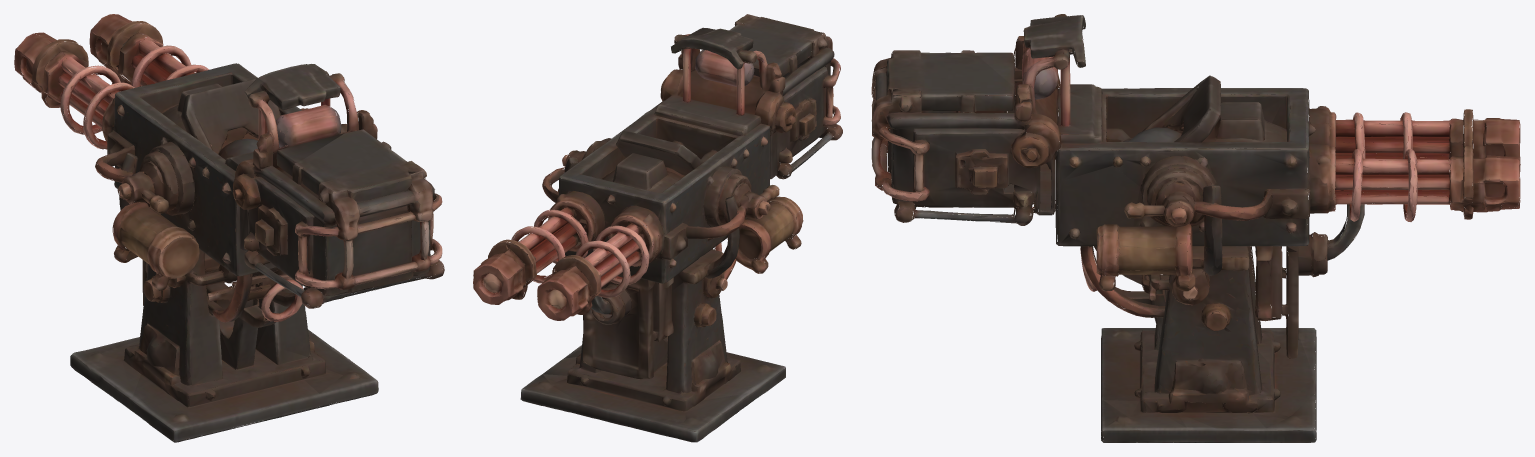
Rendered from cf_rail_driver.glb.
3 views of the same model, side by side, from view 1: azimuth 30°, elevation 25°; view 2: azimuth 150°, elevation 25°; view 3: azimuth 270°, elevation 25° (orthographic). The views are drawn at different scales.
Visible parts, largest first — view 1: gun, base, head; view 2: gun, head, base; view 3: gun, head, base.
Boxes of the visible parts, left/top/right/bottom form: gun: left=14, top=14, right=444, bottom=308; base: left=70, top=329, right=378, bottom=442; head: left=114, top=246, right=310, bottom=384; gun: left=473, top=14, right=842, bottom=320; head: left=579, top=236, right=801, bottom=393; base: left=520, top=345, right=785, bottom=442; gun: left=871, top=14, right=1520, bottom=281; head: left=1080, top=220, right=1361, bottom=393; base: left=1101, top=328, right=1316, bottom=442.
Size of the model in its own units: 1.36 by 1.9 by 3.04.
Materials: 1 (1 with a texture image).
